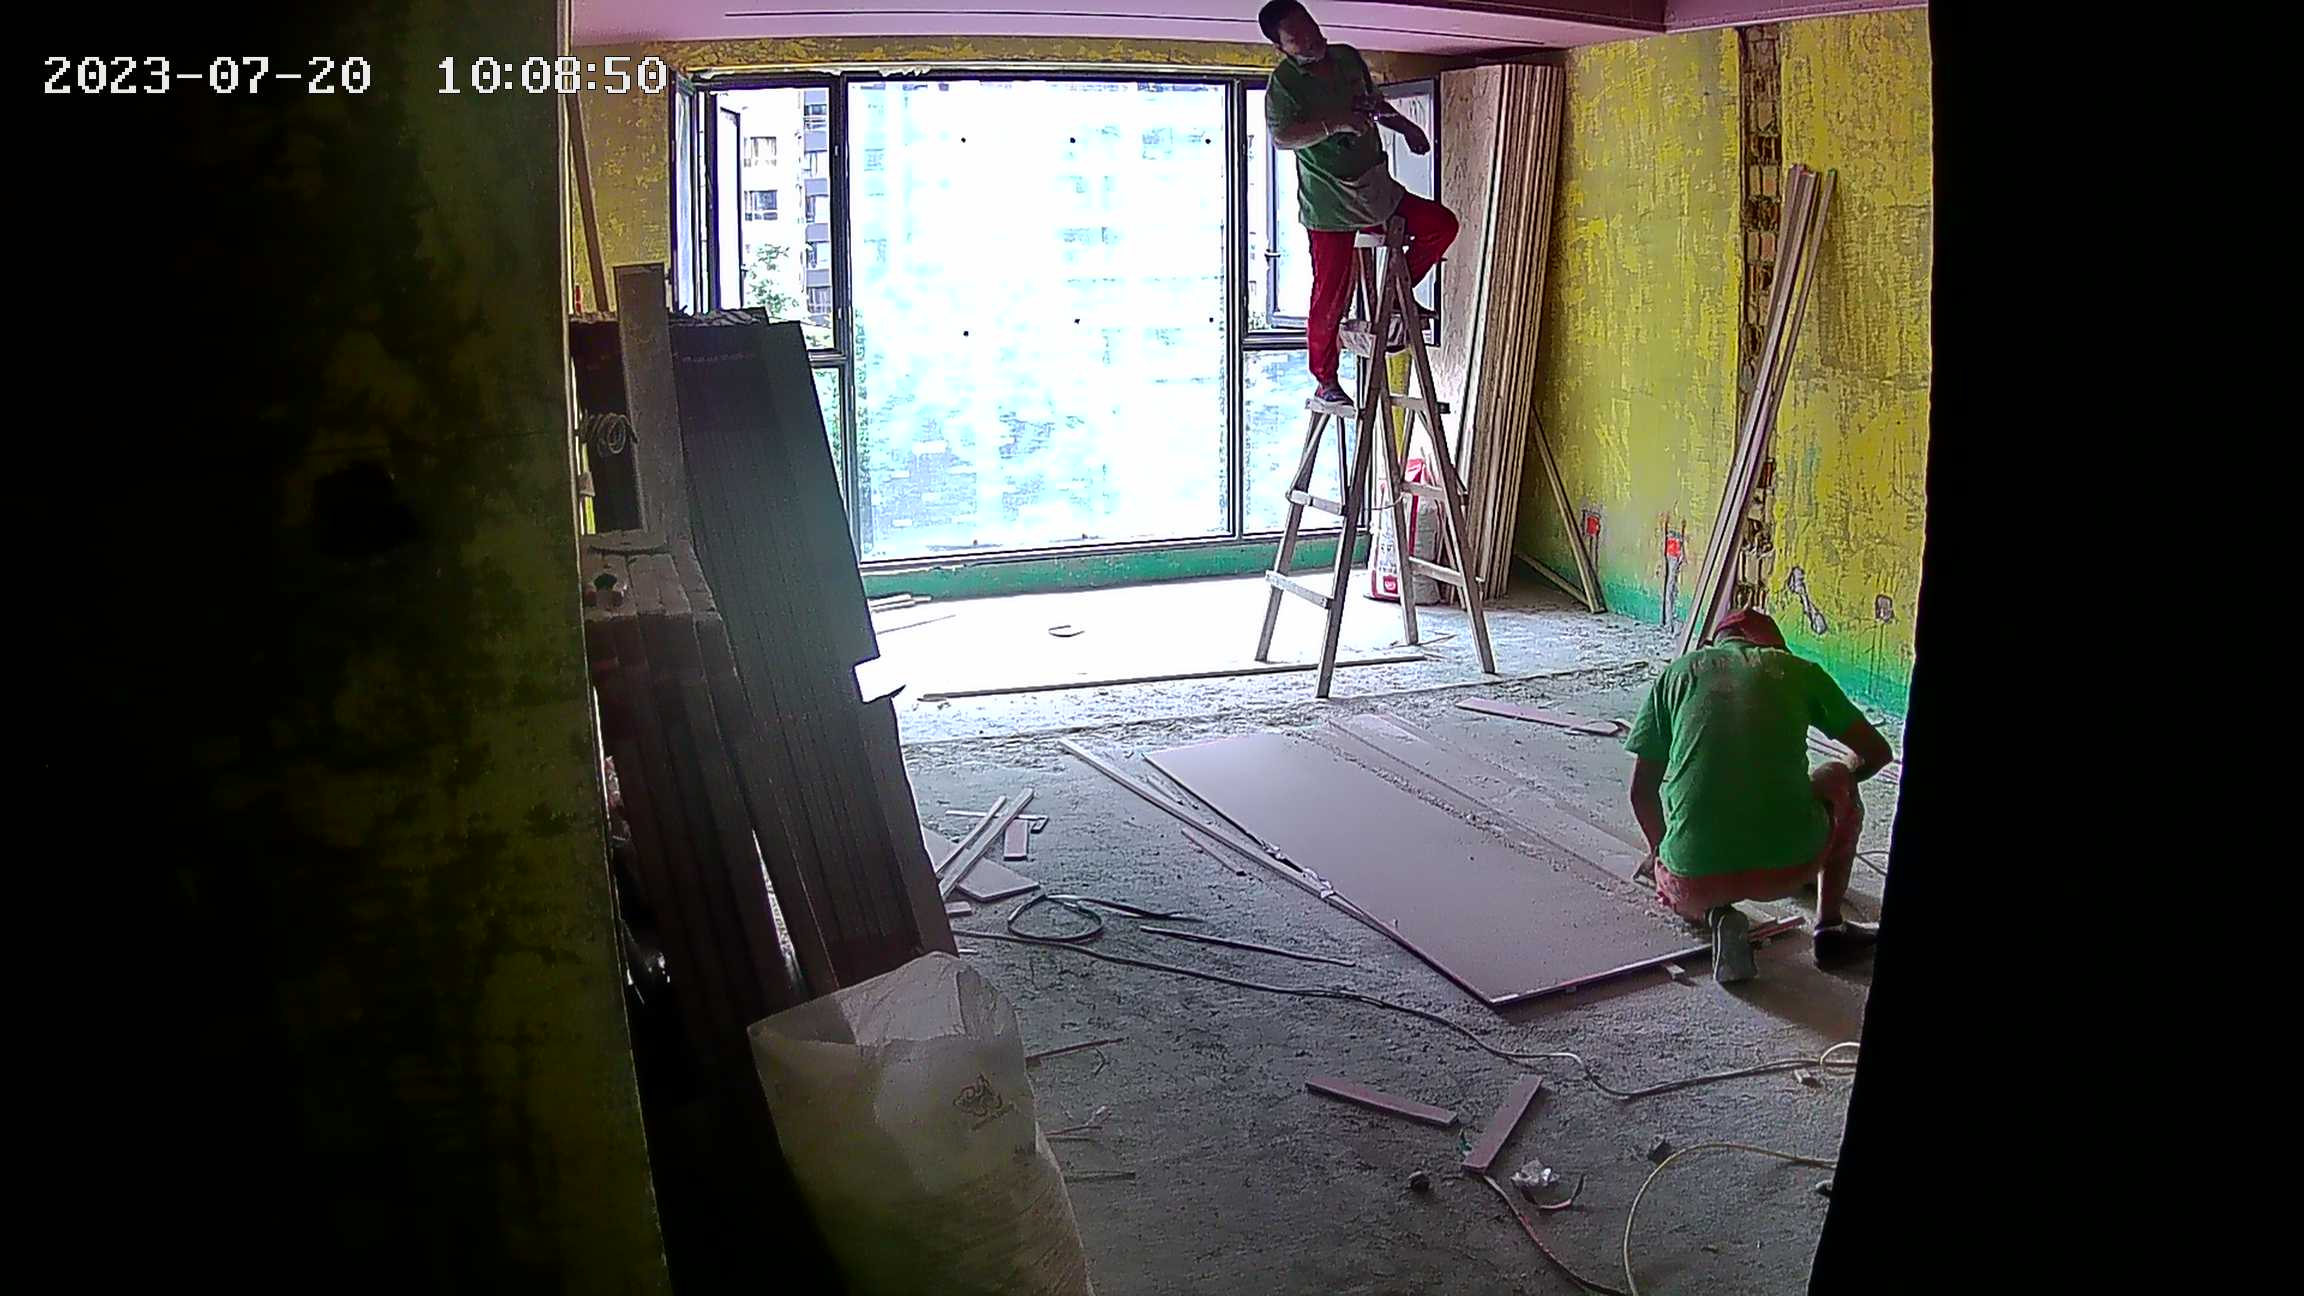people: (1623, 606, 1898, 994), (1245, 1, 1462, 422)
window: (679, 75, 1430, 551)
